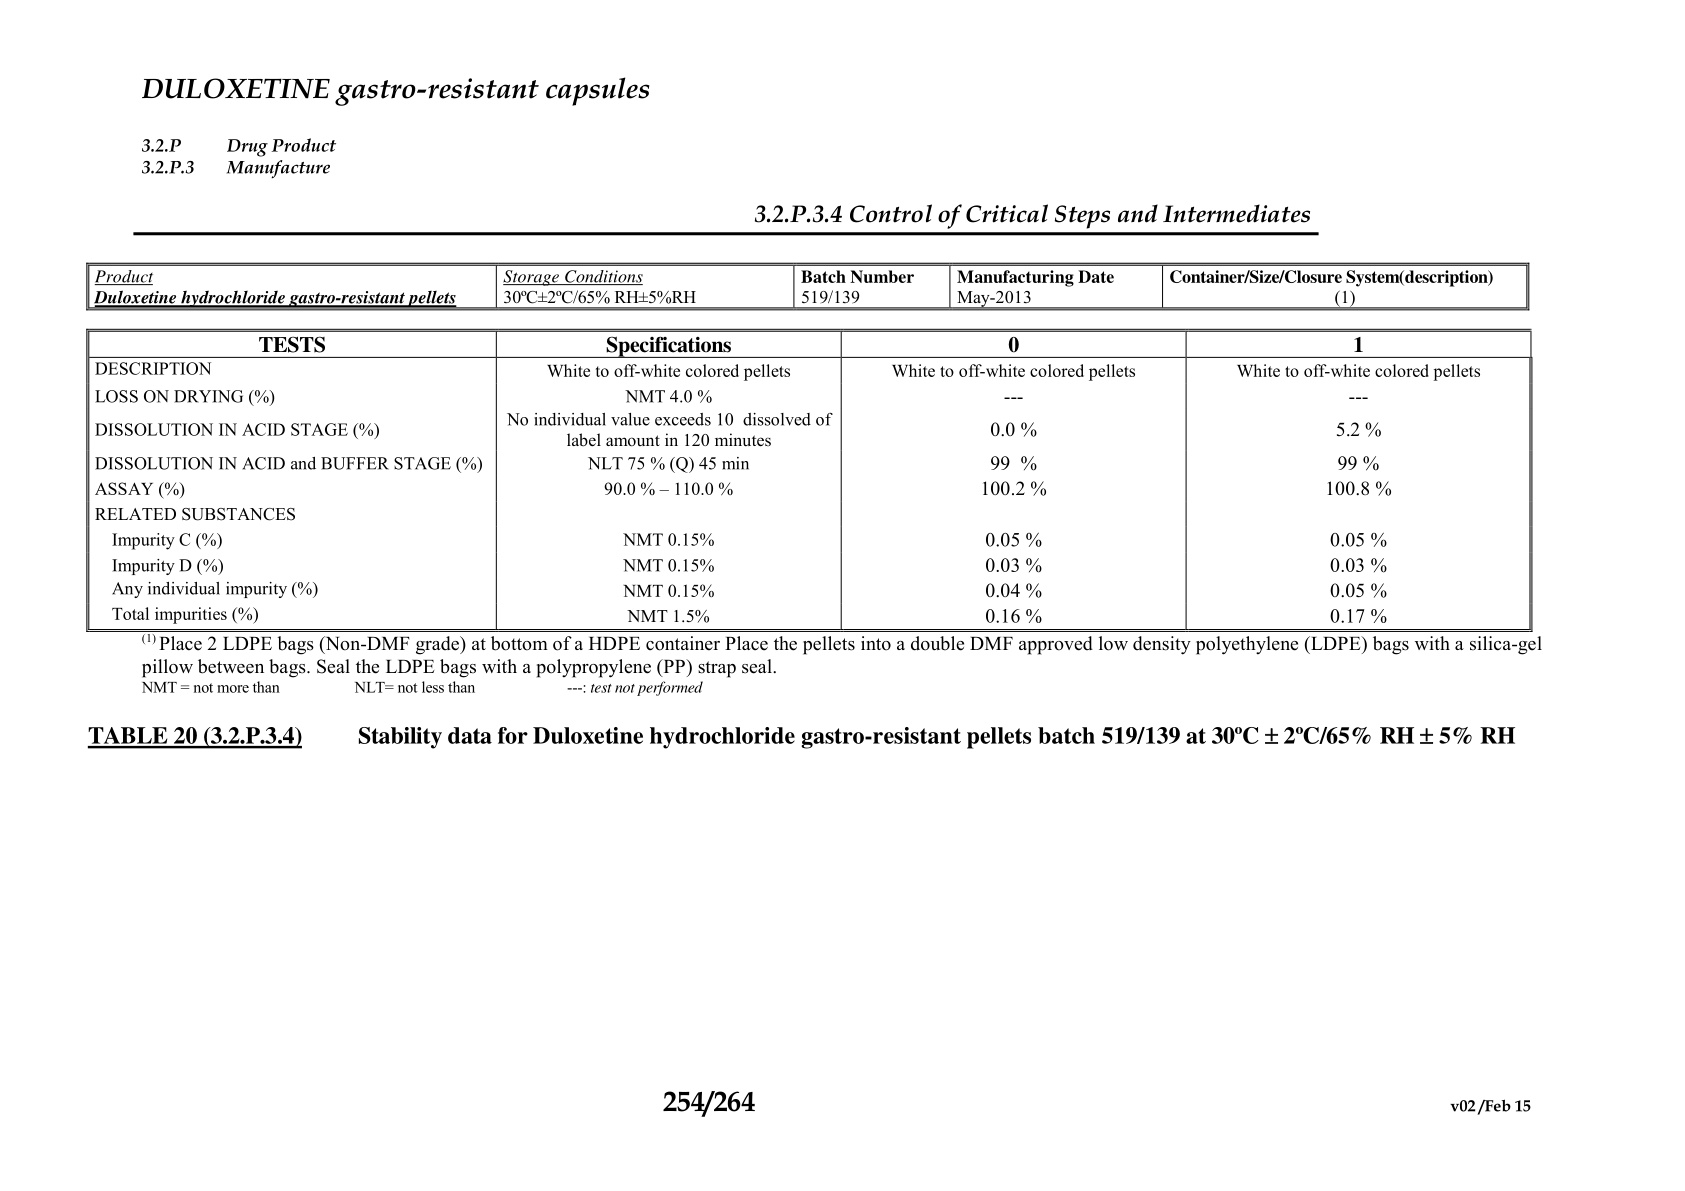full_lined: (85, 262, 1530, 311)
partial_lined: (85, 327, 1533, 632)
